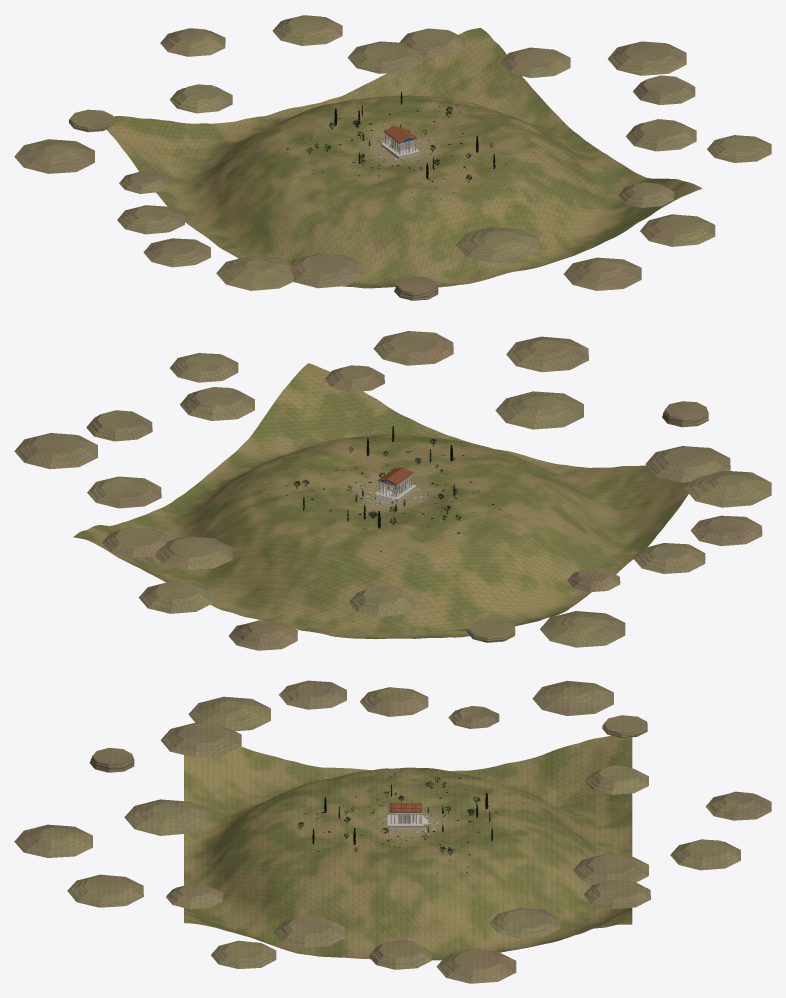
Rendered from pergamon-trajan-tapinagi-baked.glb.
The picture shows the model from 3 angles, top to bottom: view 1: azimuth 30°, elevation 25°; view 2: azimuth 150°, elevation 25°; view 3: azimuth 270°, elevation 25°; orthographic projection. The views are drawn at different scales.
Parts seen in each view (by area): view 1: pergamon-trajan-tapinagi-terrain, pergamon-trajan-tapinagi-ground, pergamon-trajan-tapinagi-flora, pergamon-trajan-tapinagi-near; view 2: pergamon-trajan-tapinagi-terrain, pergamon-trajan-tapinagi-ground, pergamon-trajan-tapinagi-near, pergamon-trajan-tapinagi-flora; view 3: pergamon-trajan-tapinagi-terrain, pergamon-trajan-tapinagi-ground, pergamon-trajan-tapinagi-flora, pergamon-trajan-tapinagi-near.
Boxes of the visible parts, x1,y1,x2,y2 form: pergamon-trajan-tapinagi-terrain: (106,28,702,288); pergamon-trajan-tapinagi-ground: (14,15,771,300); pergamon-trajan-tapinagi-flora: (276,91,534,202); pergamon-trajan-tapinagi-near: (365,126,427,165); pergamon-trajan-tapinagi-terrain: (73,363,690,639); pergamon-trajan-tapinagi-ground: (14,331,771,650); pergamon-trajan-tapinagi-near: (358,467,427,509); pergamon-trajan-tapinagi-flora: (260,426,533,559); pergamon-trajan-tapinagi-terrain: (184,735,632,960); pergamon-trajan-tapinagi-ground: (14,680,771,983); pergamon-trajan-tapinagi-flora: (278,770,543,879); pergamon-trajan-tapinagi-near: (374,803,438,834).
Bounding box in the file's own units: 595 × 61.39 × 628.
27 materials, 20 textured.
